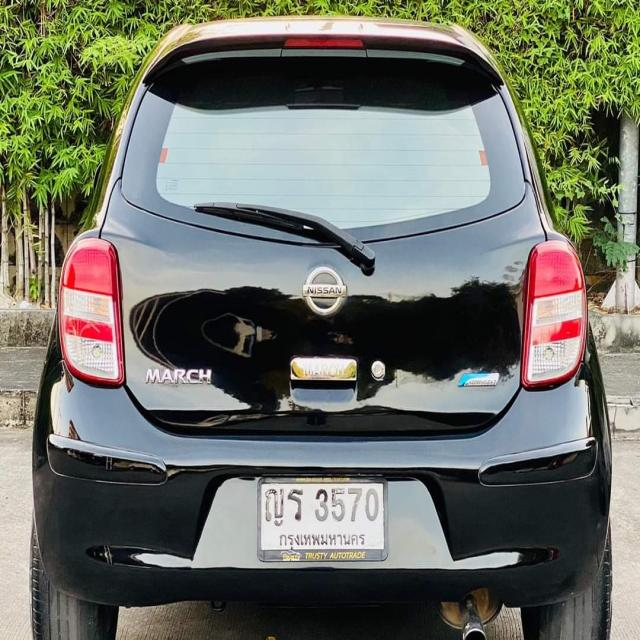license_plate: (256, 471, 388, 565)
